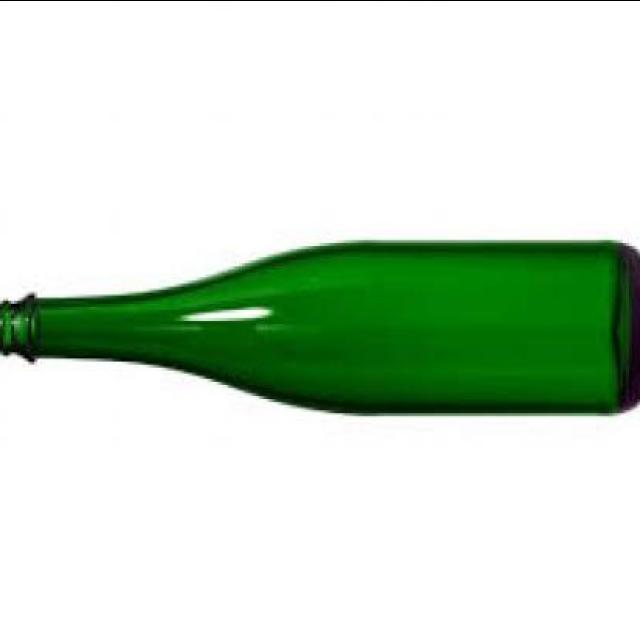kaca: (0, 238, 640, 414)
